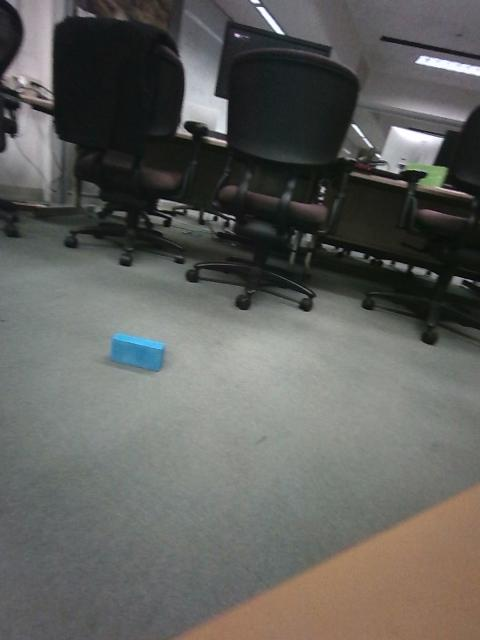block: (174, 335, 248, 374)
